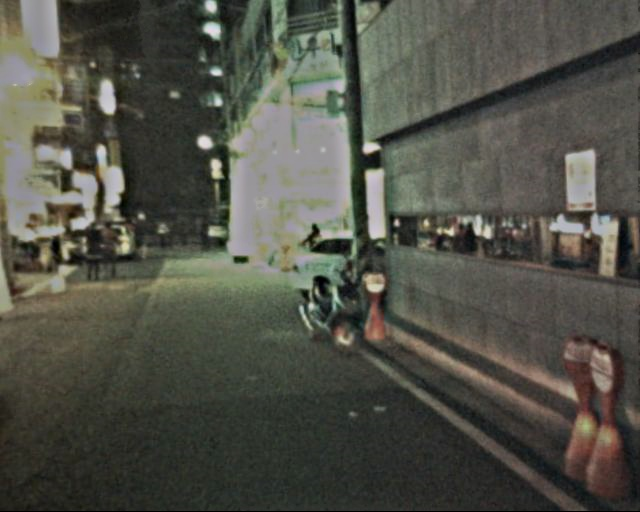person: (127, 211, 211, 257), (97, 220, 125, 281), (87, 219, 113, 281), (302, 224, 327, 285)
